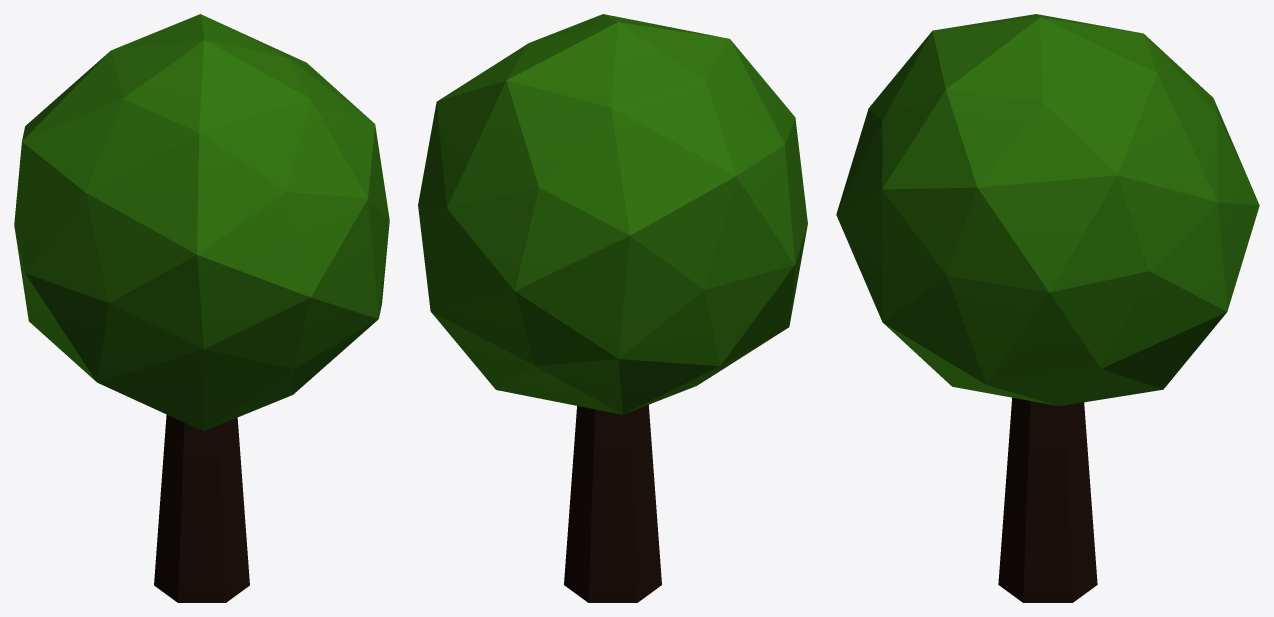
The model's file is tree_small.glb.
3 renders of one model, left to right at view 1: azimuth 30°, elevation 25°; view 2: azimuth 150°, elevation 25°; view 3: azimuth 270°, elevation 25°, orthographic. The views are drawn at different scales.
Parts seen in each view (by area): view 1: tree_small_root_body; view 2: tree_small_root_body; view 3: tree_small_root_body.
Boxes of the visible parts, x1,y1,x2,y2 form: tree_small_root_body: [14, 14, 389, 602]; tree_small_root_body: [418, 14, 807, 602]; tree_small_root_body: [836, 14, 1259, 602].
Bounding box in the file's own units: 1.02 × 1.51 × 1.02.
